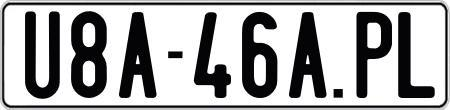4: (192, 9, 235, 99)
6: (239, 11, 276, 102)
8: (71, 9, 111, 101)
A: (286, 11, 330, 99), (118, 10, 159, 96)
L: (398, 10, 436, 101)
P: (354, 10, 394, 102)
U: (24, 11, 61, 104)
